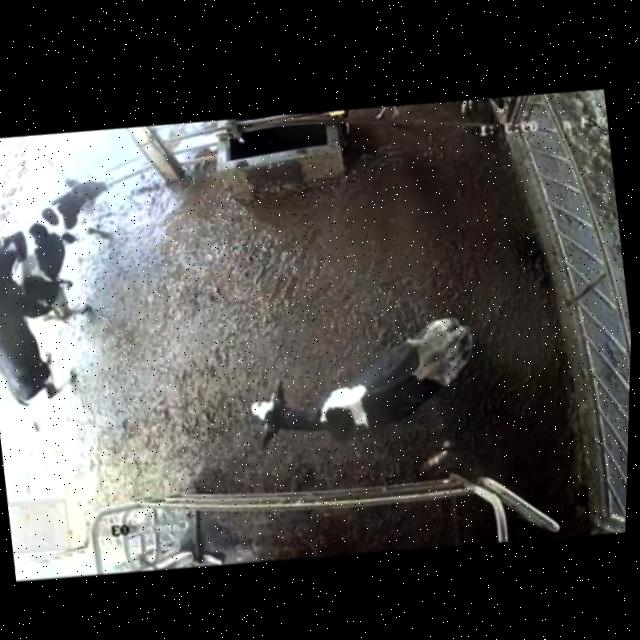lay: (206, 262, 510, 495)
ride: (0, 213, 110, 444)
stand: (10, 167, 135, 338)
